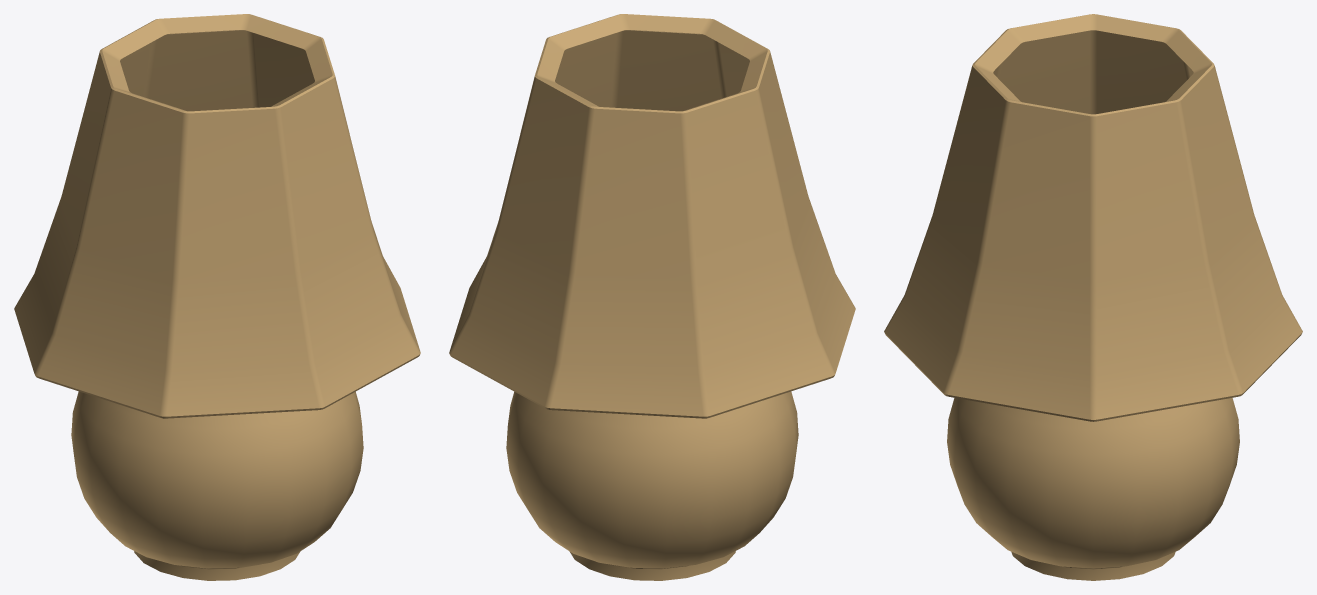
The model's file is sm_TableLamp.fbx.
3 views of the same model, side by side, from view 1: azimuth 30°, elevation 25°; view 2: azimuth 150°, elevation 25°; view 3: azimuth 270°, elevation 25° (orthographic).
Visible parts, largest first — view 1: sm_TableLamp; view 2: sm_TableLamp; view 3: sm_TableLamp.
Part boxes in pixels (<box>): sm_TableLamp: <box>14,14,420,580</box>; sm_TableLamp: <box>449,14,855,580</box>; sm_TableLamp: <box>884,14,1302,580</box>.
Size of the model in its own units: 0.6487 by 0.8219 by 0.6487.
